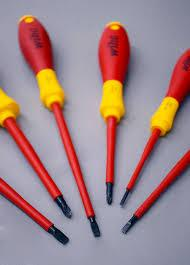screwdriver: (97, 17, 116, 205), (76, 185, 102, 238), (50, 175, 74, 220), (39, 222, 72, 247), (120, 210, 144, 234), (117, 184, 135, 207)
